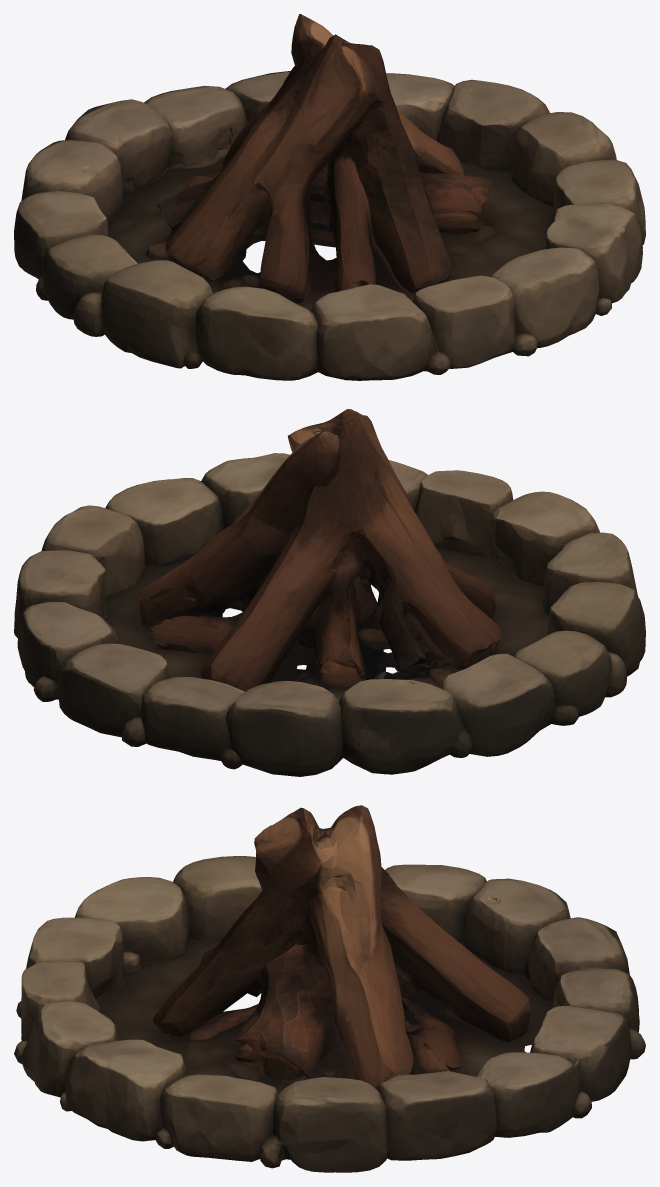
The model's file is fire_pit.glb.
The picture shows the model from 3 angles, top to bottom: view 1: azimuth 30°, elevation 25°; view 2: azimuth 150°, elevation 25°; view 3: azimuth 270°, elevation 25°; orthographic projection.
Parts seen in each view (by area): view 1: world; view 2: world; view 3: world.
Part boxes in pixels (<box>): world: <box>14,14,645,380</box>; world: <box>14,409,645,776</box>; world: <box>14,805,645,1172</box>.
Size of the model in its own units: 0.9905 by 0.4103 by 0.9955.
Materials: 1 (1 with a texture image).
